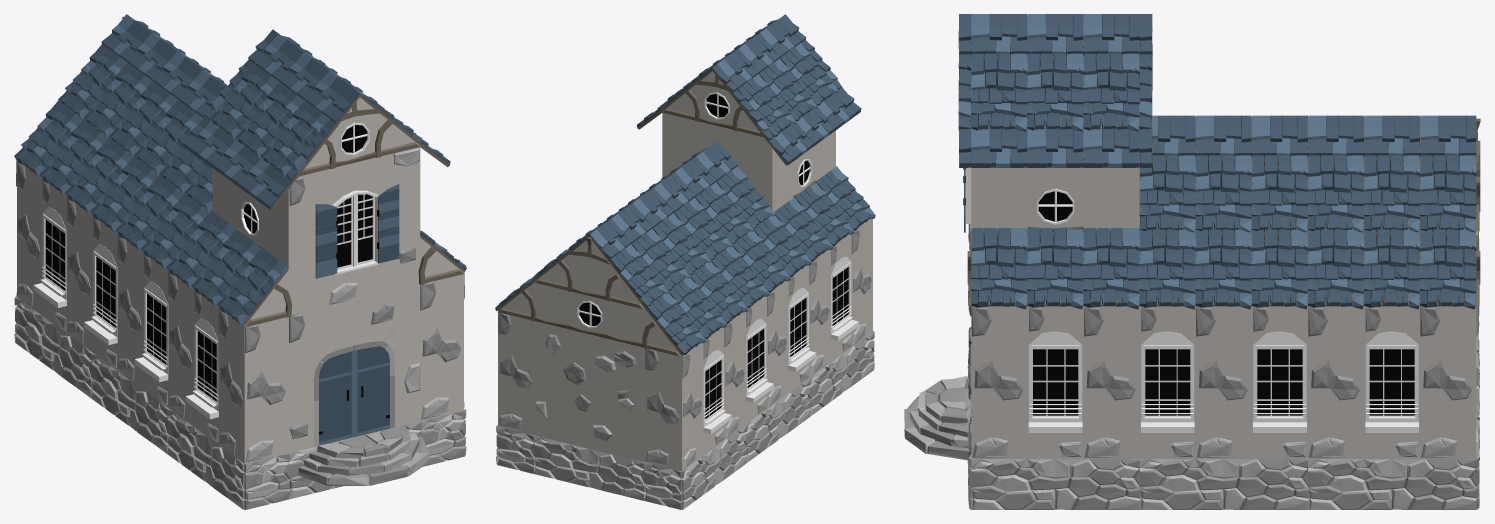
Rendered from house_11.fbx.
The picture shows the model from 3 angles, left to right: view 1: azimuth 30°, elevation 25°; view 2: azimuth 150°, elevation 25°; view 3: azimuth 270°, elevation 25°; orthographic projection. The views are drawn at different scales.
Visible parts, largest first — view 1: DOOR_03_2, WINDOW_04_2, WALL_03_3, WALL_03_4, STAIRS_06_2, FOUNDATION_01_9, WALL_03_14, FOUNDATION_01_7, WINDOW_01_12, FOUNDATION_01_8, WINDOW_01_10, WINDOW_01_11 (+46 smaller); view 2: WALL_06_2, FOUNDATION_01_6, WALL_03_15, WALL_03_16, FOUNDATION_01_7, WINDOW_01_12, WINDOW_01_10, WINDOW_01_13, WINDOW_01_11, FOUNDATION_01_9, FOUNDATION_01_8, WALL_03_13 (+56 smaller); view 3: WINDOW_01_16, WINDOW_01_17, WALL_03_6, WALL_03_5, WINDOW_01_14, FOUNDATION_01_4, FOUNDATION_01_3, FOUNDATION_01_5, WALL_03_9, WALL_03_7, WINDOW_01_15, WALL_03_8 (+39 smaller).
Boxes of the visible parts, x1,y1,x2,y2 form: DOOR_03_2: (288, 284, 420, 452); WINDOW_04_2: (287, 147, 420, 314); WALL_03_3: (244, 317, 288, 463); WALL_03_4: (420, 274, 463, 420); STAIRS_06_2: (298, 426, 429, 485); FOUNDATION_01_9: (166, 408, 247, 509); WALL_03_14: (218, 309, 247, 463); FOUNDATION_01_7: (14, 297, 93, 397); WINDOW_01_12: (84, 217, 118, 370); FOUNDATION_01_8: (90, 353, 169, 453); WINDOW_01_10: (185, 291, 219, 444); WINDOW_01_11: (135, 254, 168, 407); WALL_06_2: (535, 321, 644, 462); FOUNDATION_01_6: (533, 435, 645, 500); WALL_03_15: (645, 348, 682, 470); WALL_03_16: (498, 311, 534, 435); FOUNDATION_01_7: (679, 425, 747, 509); WINDOW_01_12: (745, 296, 773, 424); WINDOW_01_10: (830, 234, 858, 362); WINDOW_01_13: (703, 327, 731, 455); WINDOW_01_11: (788, 265, 816, 393); FOUNDATION_01_9: (809, 332, 874, 415); FOUNDATION_01_8: (745, 378, 811, 462); WALL_03_13: (809, 250, 830, 377); WINDOW_01_16: (1139, 306, 1195, 458); WINDOW_01_17: (1027, 306, 1083, 458); WALL_03_6: (1083, 306, 1139, 458); WALL_03_5: (971, 306, 1027, 458); WINDOW_01_14: (1364, 306, 1420, 458); FOUNDATION_01_4: (1139, 459, 1307, 509); FOUNDATION_01_3: (971, 459, 1139, 509); FOUNDATION_01_5: (1308, 459, 1476, 509); WALL_03_9: (1420, 306, 1476, 458); WALL_03_7: (1196, 306, 1251, 458); WINDOW_01_15: (1252, 306, 1307, 458); WALL_03_8: (1308, 306, 1363, 458).
Size of the model in its own units: 541 by 859 by 1027.
